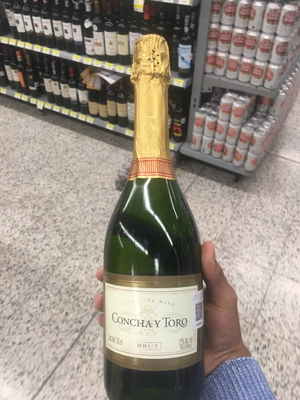brut: (102, 45, 204, 400)
